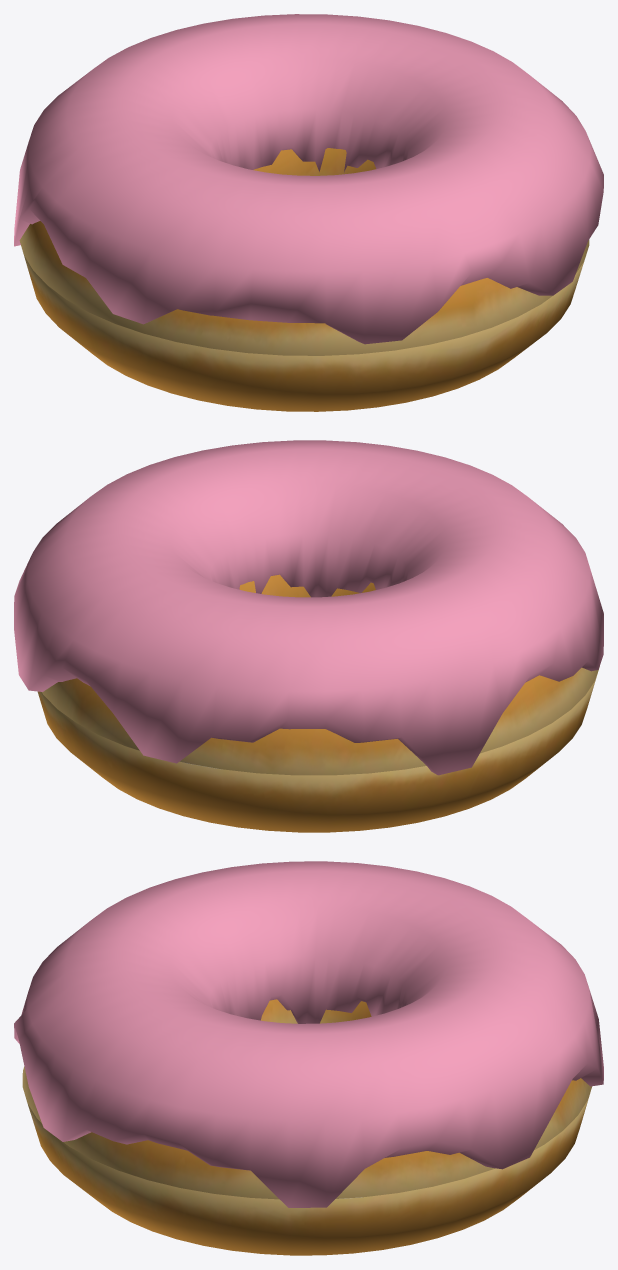
File: prop_donut.glb
The picture shows the model from 3 angles, top to bottom: view 1: azimuth 30°, elevation 25°; view 2: azimuth 150°, elevation 25°; view 3: azimuth 270°, elevation 25°; orthographic projection.
Visible parts, largest first — view 1: prop_donut; view 2: prop_donut; view 3: prop_donut.
Part boxes in pixels (box(x1,y1,x2,y2)): prop_donut: box(14, 14, 603, 411); prop_donut: box(14, 440, 603, 832); prop_donut: box(14, 861, 603, 1255).
Bounding box in the file's own units: 1.92 × 0.7951 × 1.92.
1 material, 1 textured.
